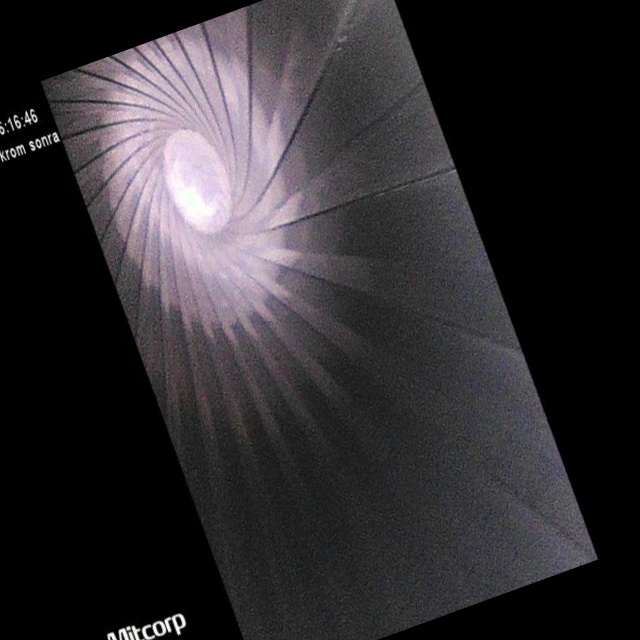hata_4.1: (417, 35, 459, 89)
